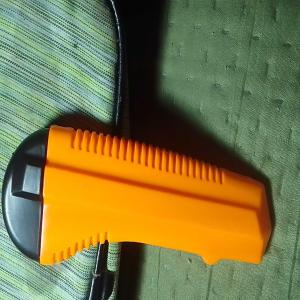estilete: (2, 124, 272, 267)
